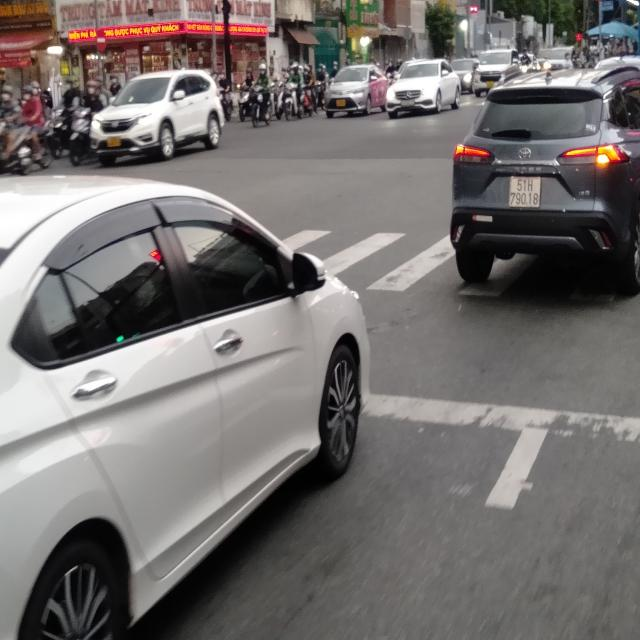bien_trang: (509, 178, 541, 209)
